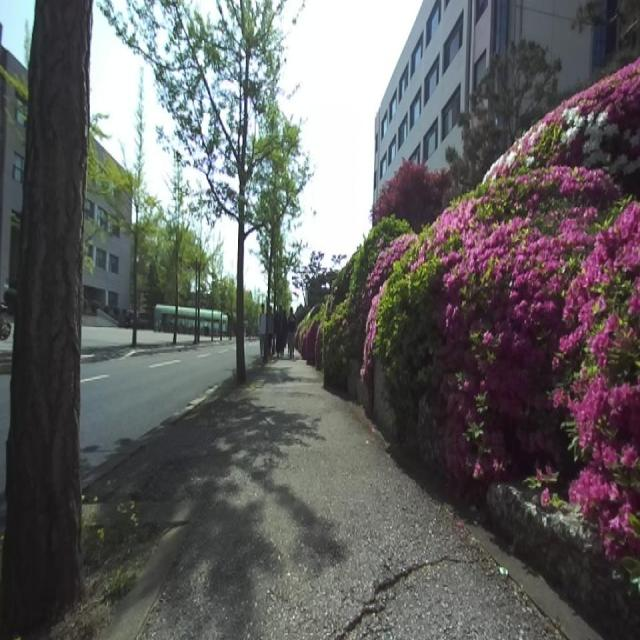sidewalk: (86, 357, 561, 639)
